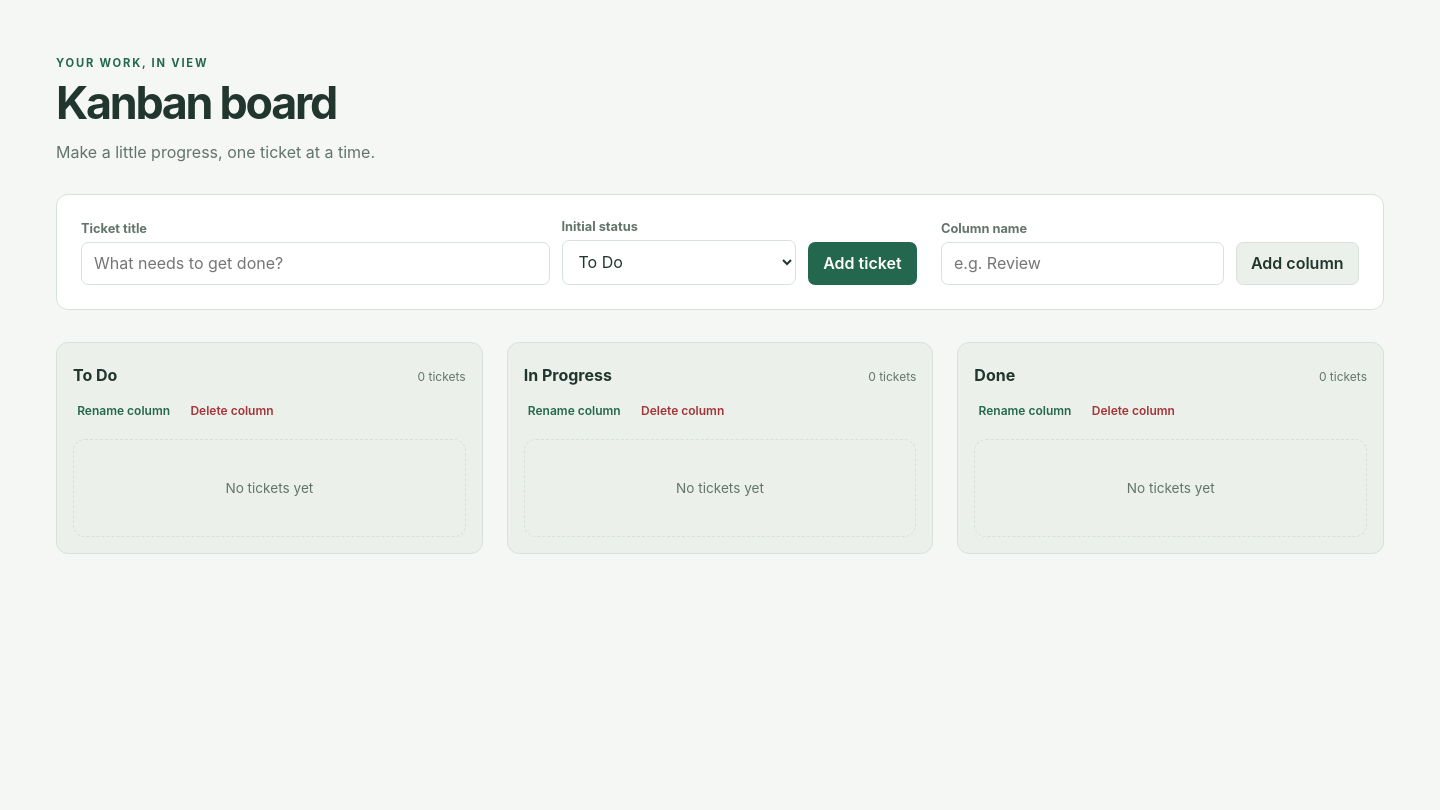
Kanban board acceptance › AC3: defaults to the first column and adds a trimmed ticket only to the selected column
The image size is (1440, 810).
Expected: the dropdown labelled "Initial status" shows "To Do", [562, 240, 796, 285]
Type "  Write tests  " into the field labelled "Ticket title".
click(315, 263); type("  Write tests  ")  # box [81, 242, 550, 285]
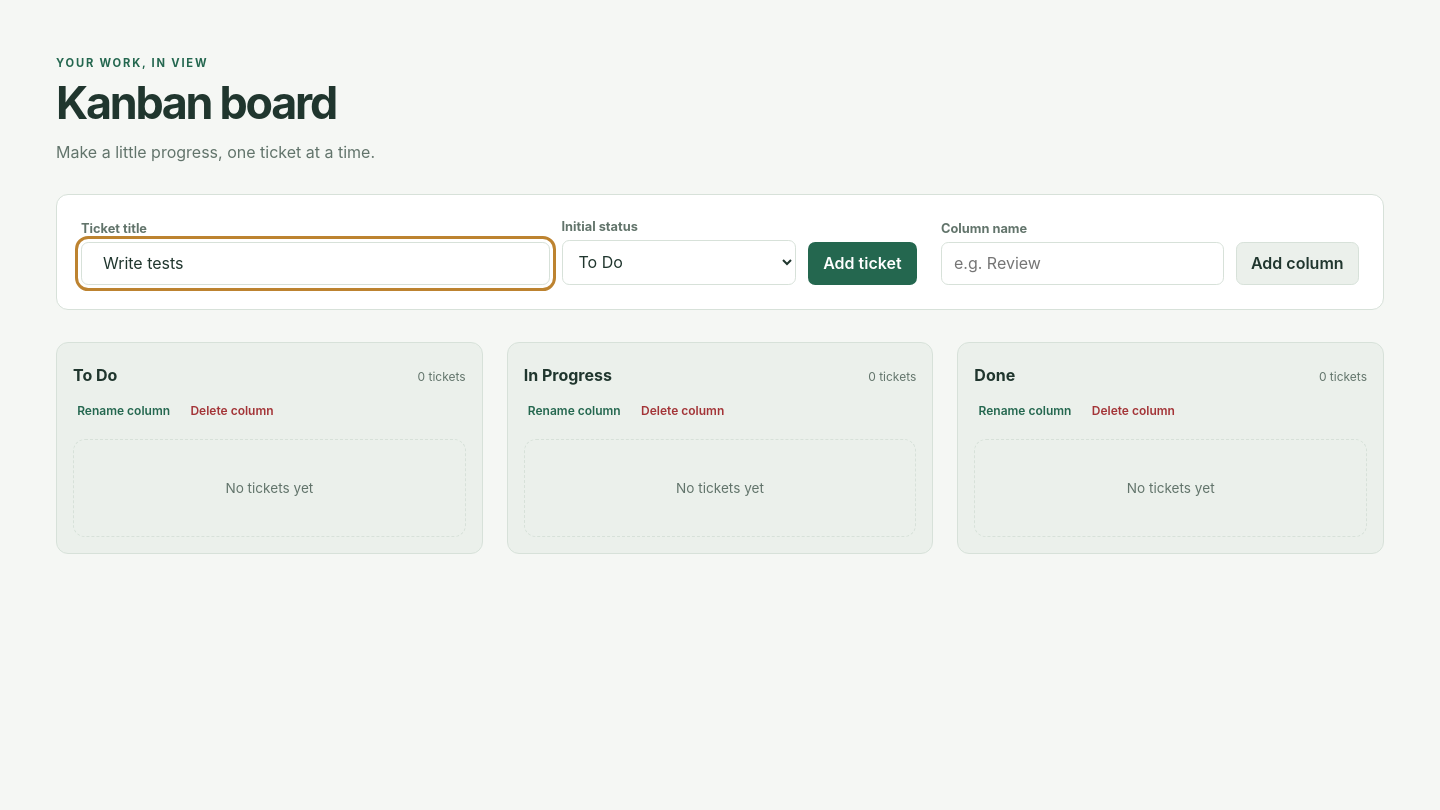
Select "In Progress" in the dropdown labelled "Initial status" at point(679, 262), box [562, 240, 796, 285]
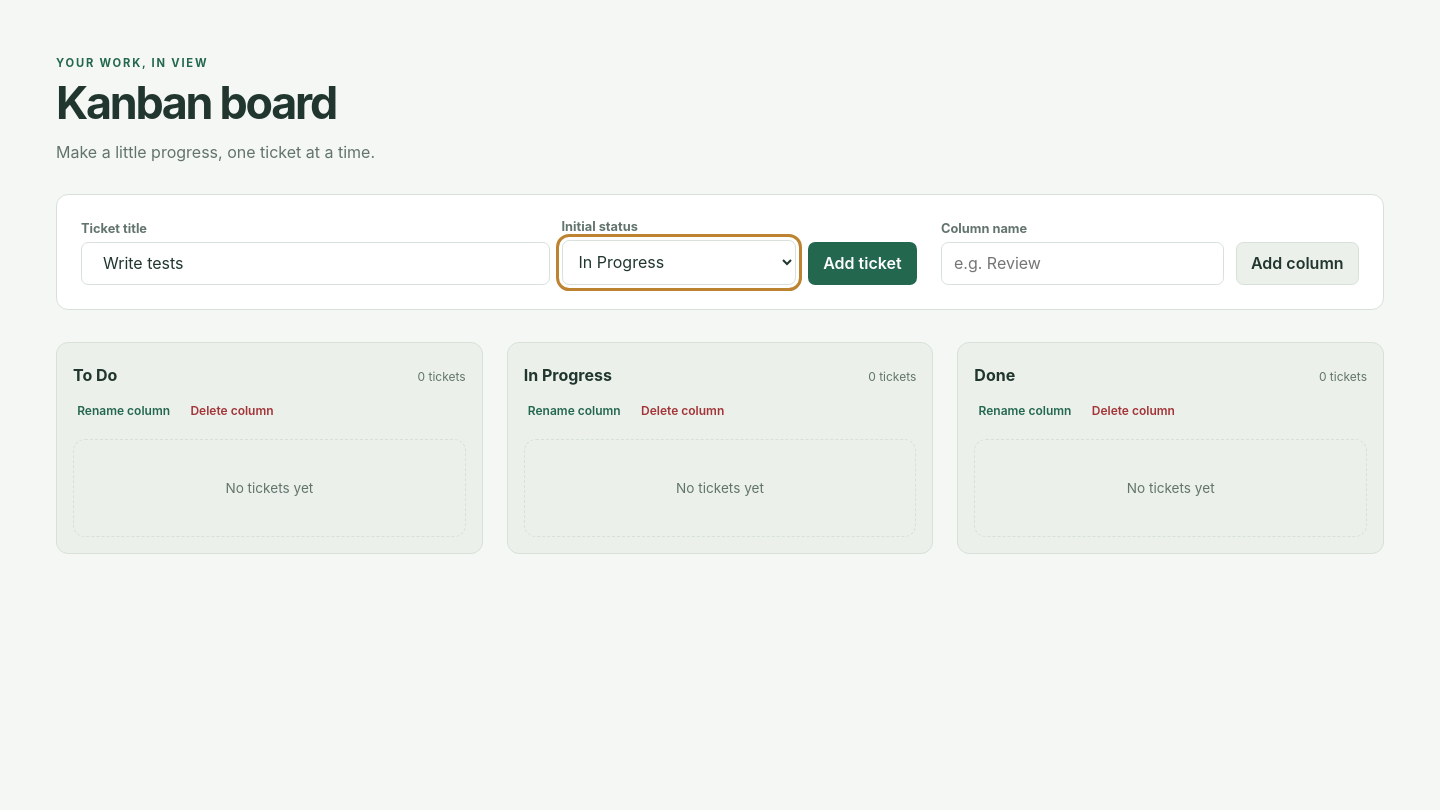
Click the button "Add ticket".
click(862, 263)  # box [808, 242, 917, 285]
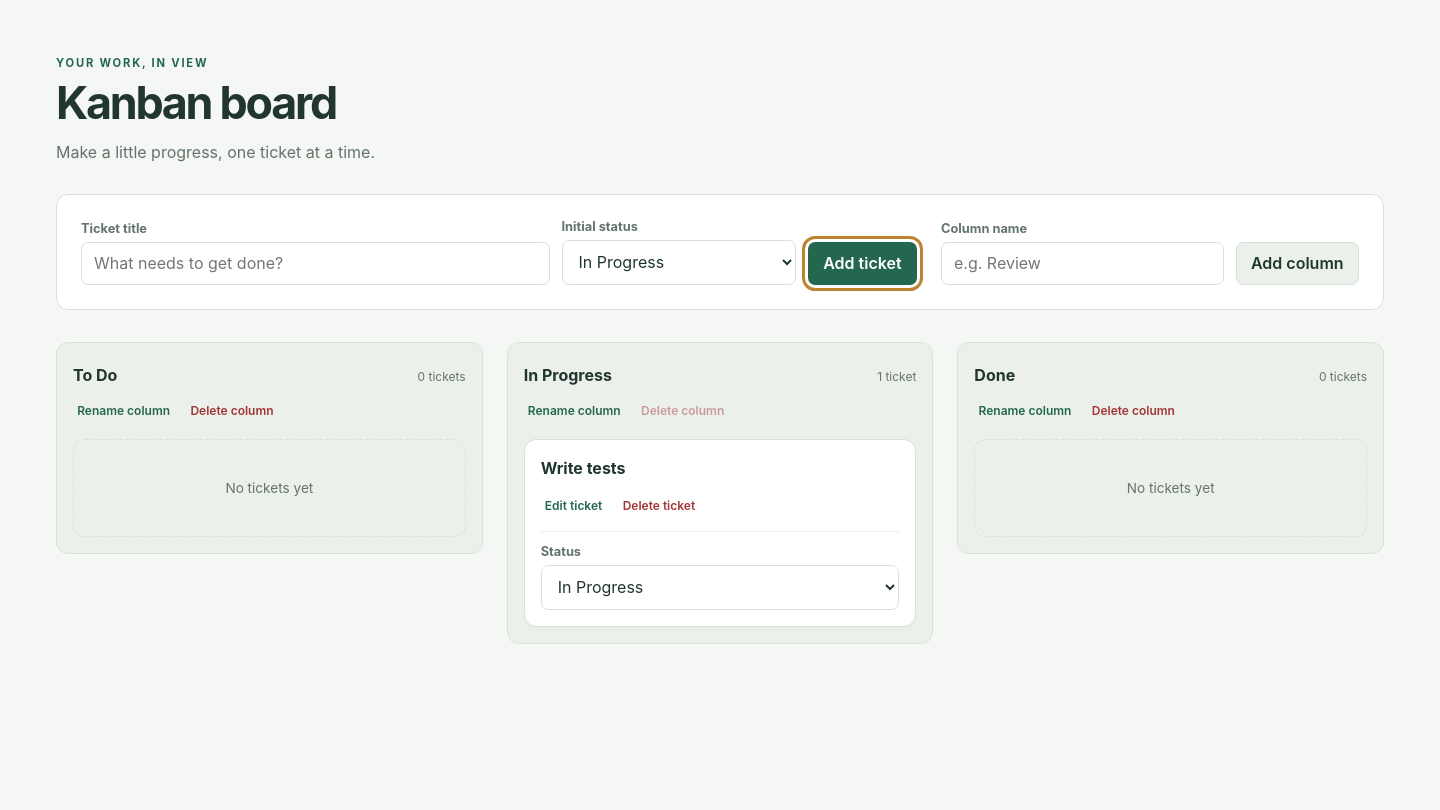
Now the heading "Write tests" is shown, box [541, 458, 626, 478]
Now the field labelled "Ticket title" is empty, box [81, 242, 550, 285]
